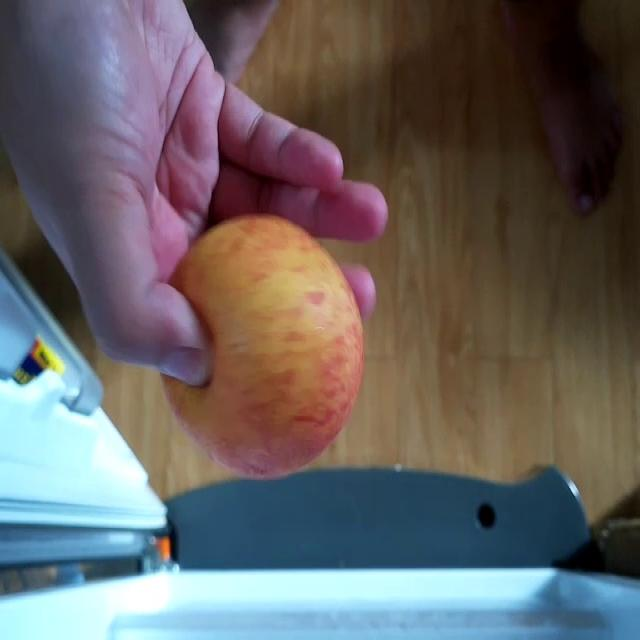apple: (158, 217, 364, 483)
